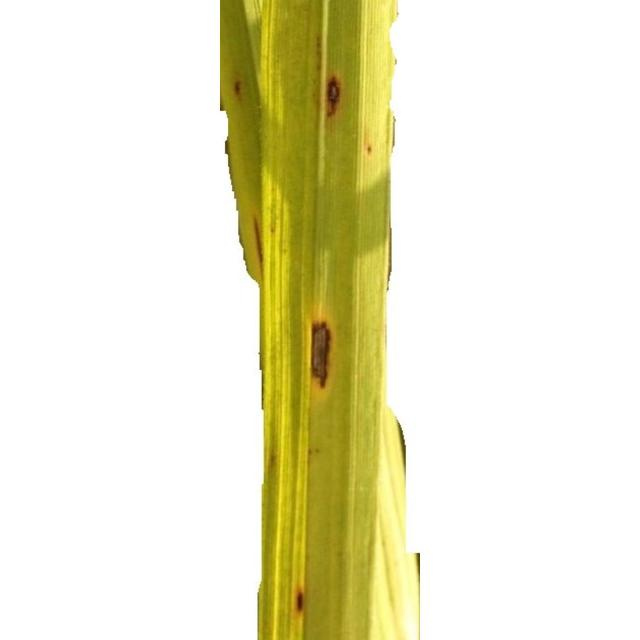Brown spot: (298, 310, 344, 404), (315, 51, 354, 121), (286, 548, 318, 631), (229, 64, 255, 110), (361, 137, 388, 170)
